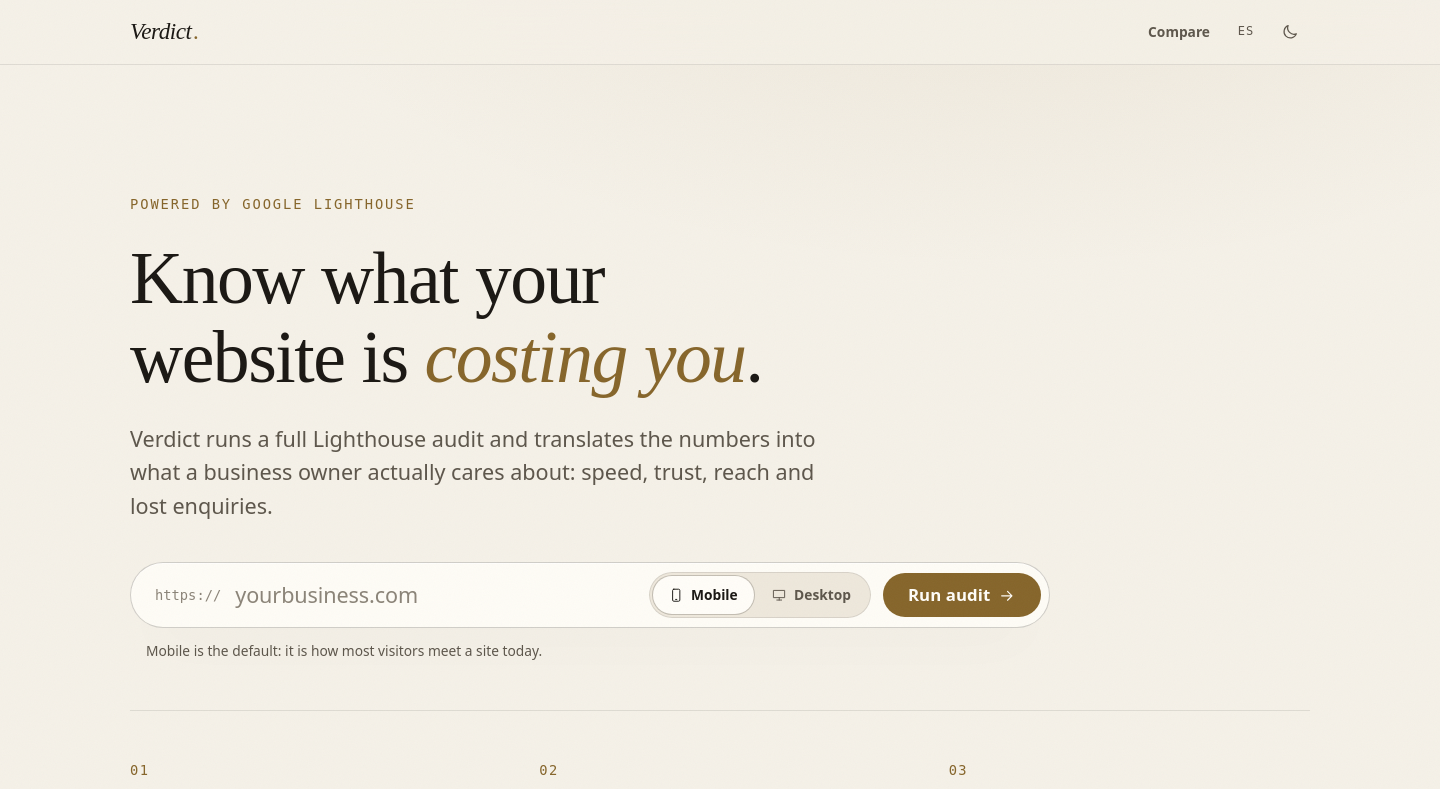
Home › validates the address before running an audit
Type "not a site" into the field named "Website address" at (429, 595), box [233,571,624,619]
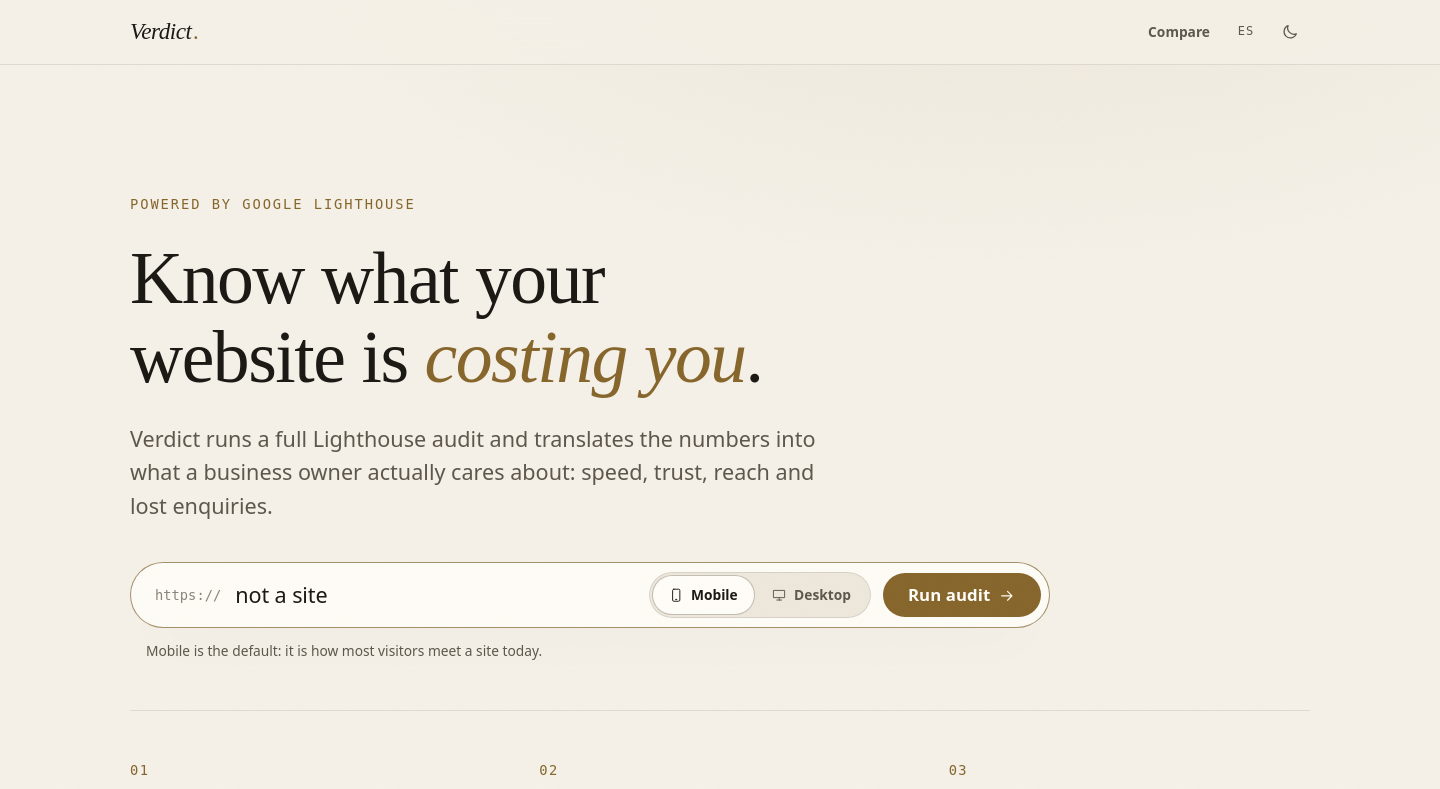
Click the button "Run audit" at (962, 595), box [883,573,1041,617]
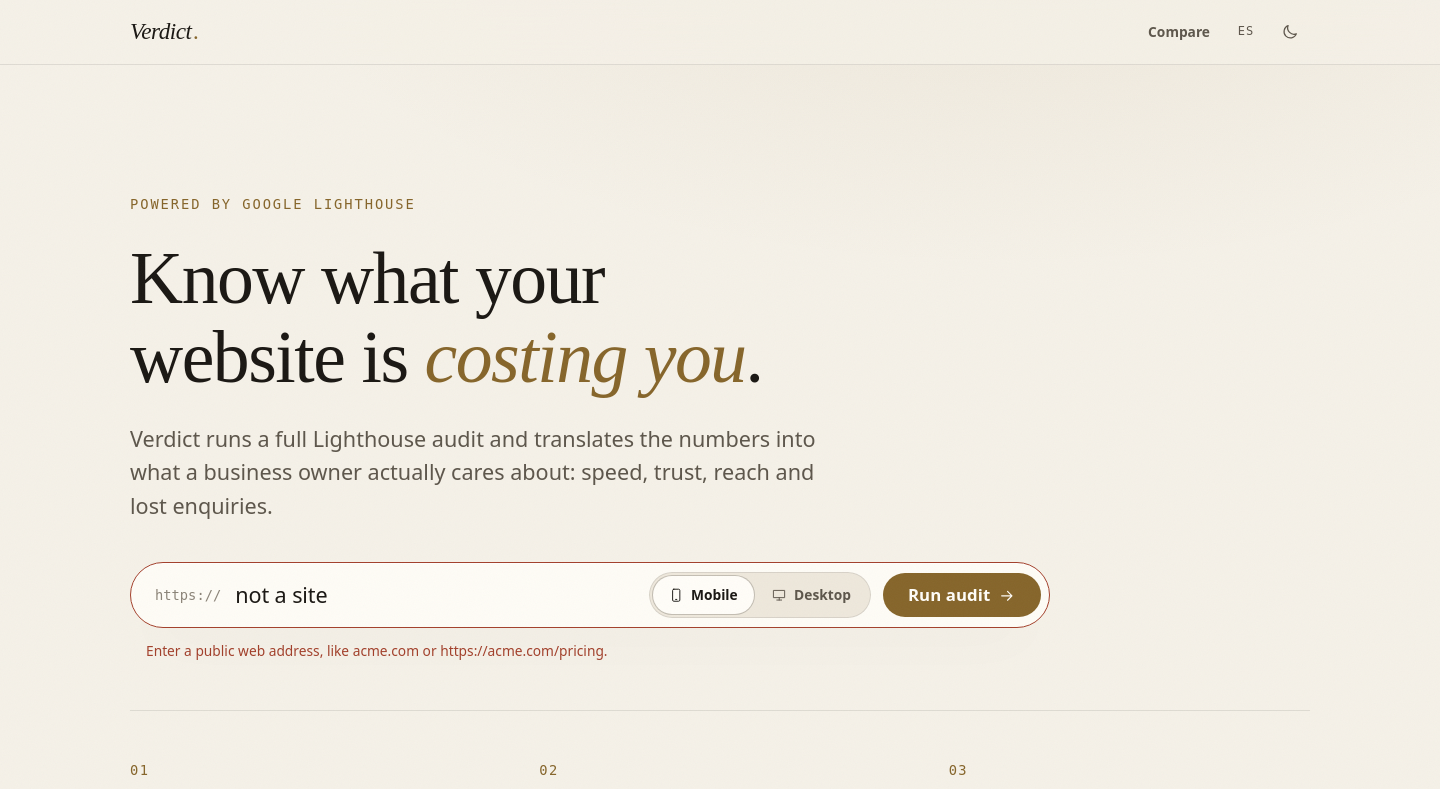
Now the text "Enter a public web address" is shown, box [146,641,608,660]
